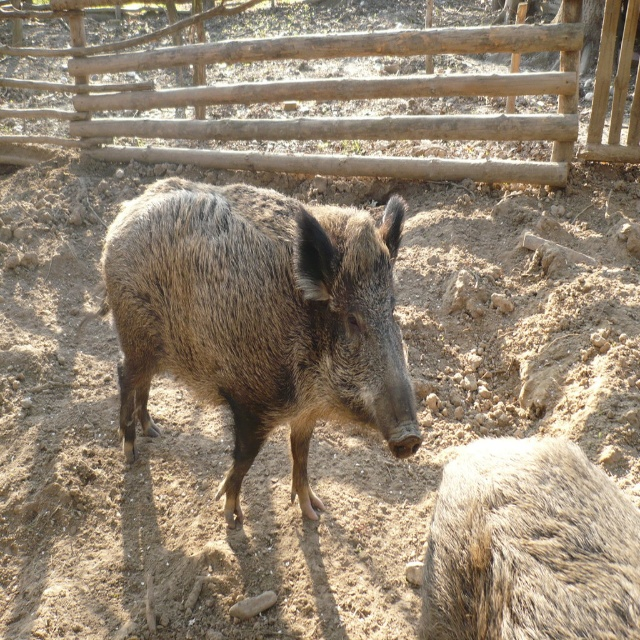Pig: (97, 174, 424, 531), (411, 433, 640, 638)
